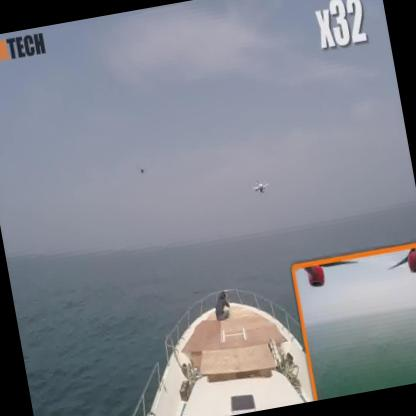drone: (249, 173, 274, 202)
